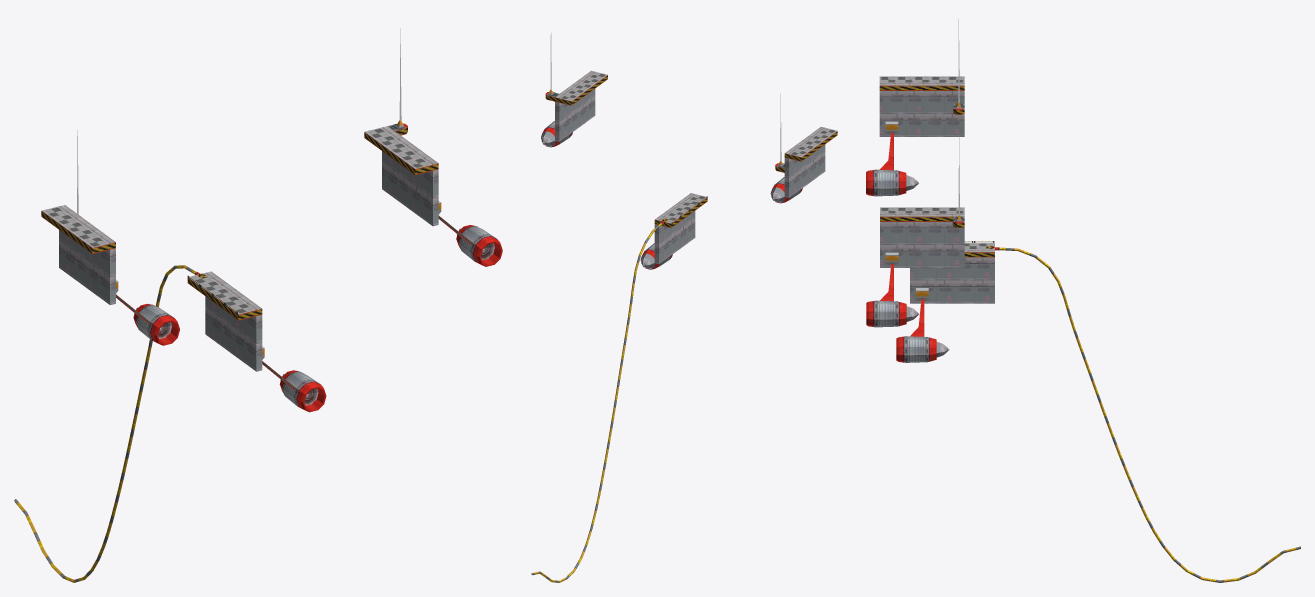
The model's file is 2PEgg_fleet2.obj.
The picture shows the model from 3 angles, left to right: view 1: azimuth 30°, elevation 25°; view 2: azimuth 150°, elevation 25°; view 3: azimuth 270°, elevation 25°; orthographic projection. The views are drawn at different scales.
Visible parts, largest first — view 1: obj1, Object_2; view 2: obj1, Object_2; view 3: obj1, Object_2.
Part boxes in pixels (bbox=[...]): obj1: bbox=[41, 123, 438, 371]; Object_2: bbox=[14, 28, 502, 582]; obj1: bbox=[545, 70, 837, 264]; Object_2: bbox=[531, 33, 802, 582]; obj1: bbox=[879, 76, 994, 303]; Object_2: bbox=[866, 19, 1300, 582].
Bounding box in the file's own units: 1375 × 2063 × 1539.
